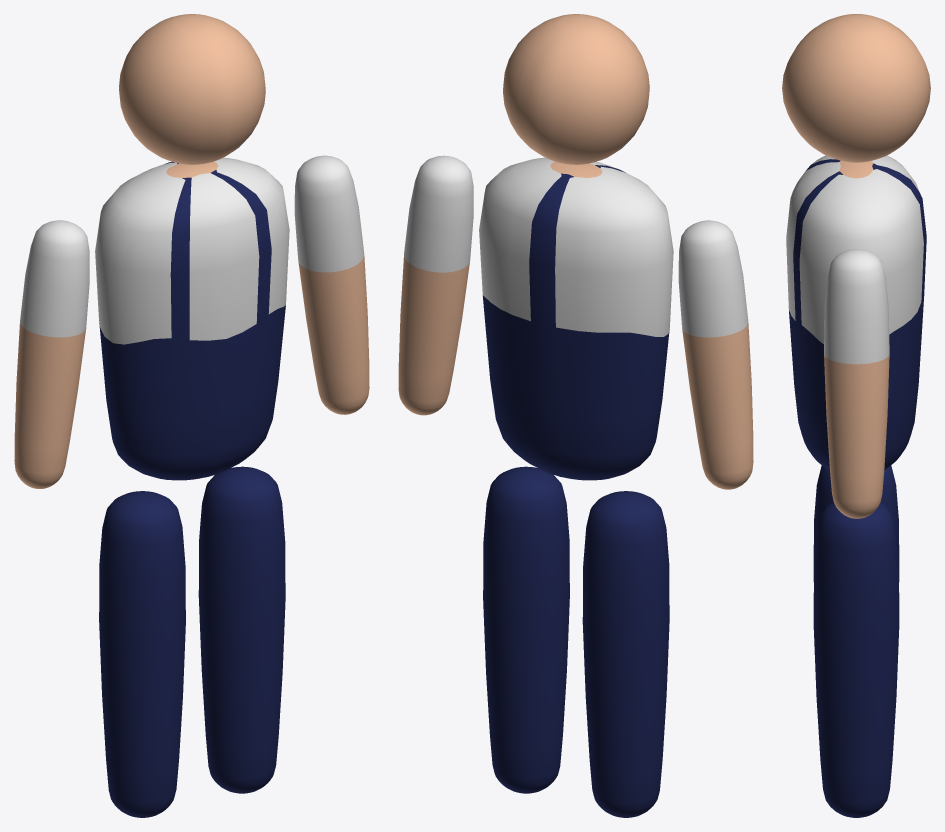
Rendered from Gardener.fbx.
3 views of the same model, side by side, from view 1: azimuth 30°, elevation 25°; view 2: azimuth 150°, elevation 25°; view 3: azimuth 270°, elevation 25° (orthographic).
Parts seen in each view (by area): view 1: Cube; view 2: Cube; view 3: Cube.
Part boxes in pixels (x1=…): Cube: x1=14, y1=14, x2=369, y2=817; Cube: x1=398, y1=14, x2=753, y2=817; Cube: x1=782, y1=14, x2=930, y2=817.
Size of the model in its own units: 84.7 by 182 by 31.84.
